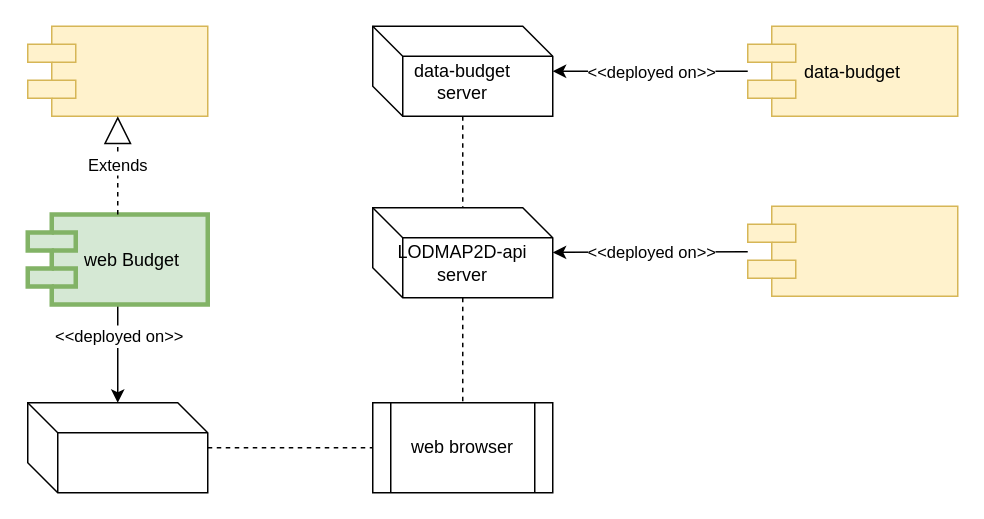
Image size: 984x519. Some labels were removed from this diagram. The centre of each missing label's shape, as x and y in pixels:
LODMAP2D: point 117,70
LODMAP2D-api: point 852,250
web budget server: point 117,447
